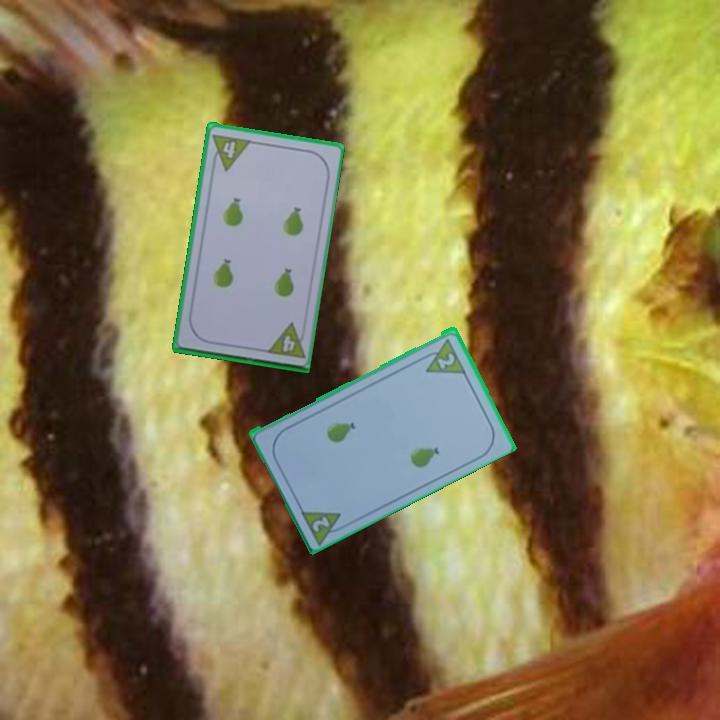2p: (297, 505, 350, 546), (434, 349, 458, 371)
4p: (208, 130, 253, 173), (262, 320, 309, 361)
